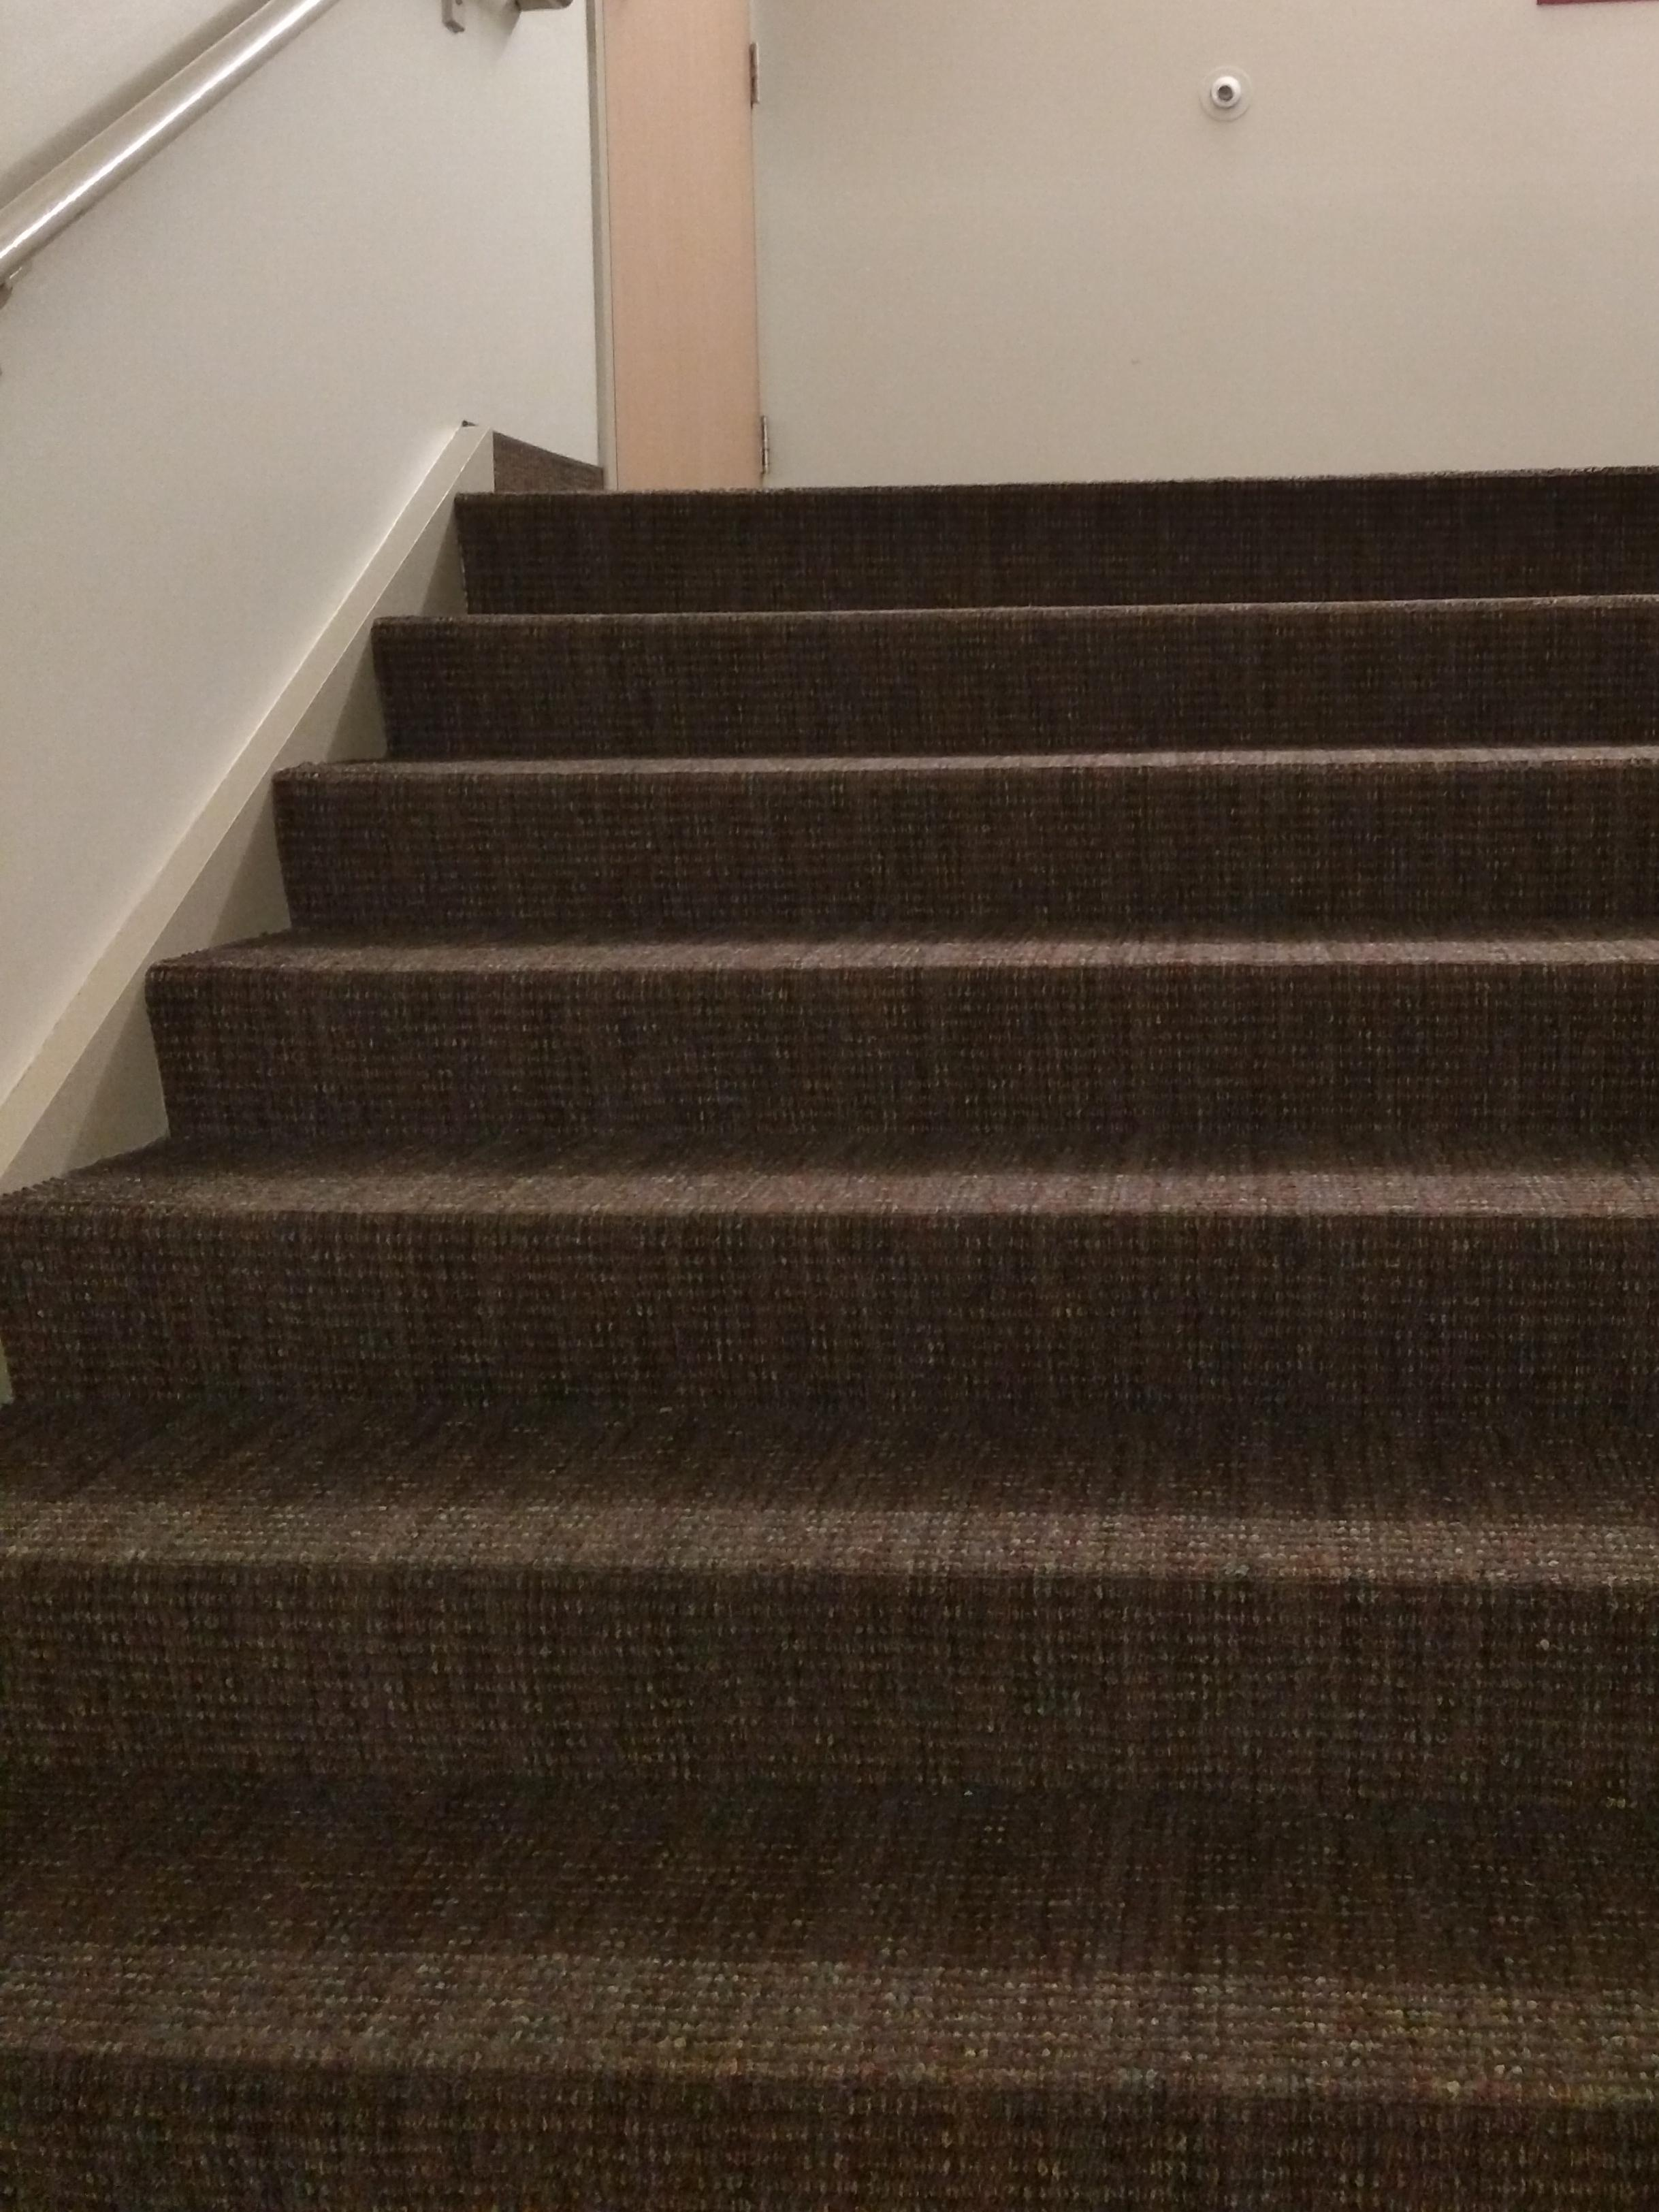stairs_up: (5, 479, 1659, 2165)
